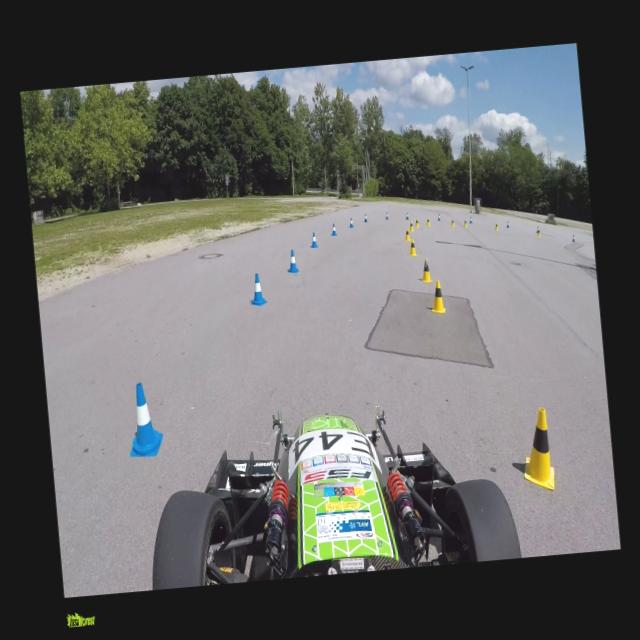blue_cone: (125, 382, 164, 458), (249, 274, 265, 304), (285, 250, 298, 272), (309, 230, 318, 248), (329, 222, 337, 236), (348, 217, 354, 228), (363, 212, 368, 222), (404, 212, 410, 220), (504, 220, 510, 228), (384, 211, 389, 220), (468, 216, 473, 223), (436, 214, 440, 222), (571, 234, 575, 242)
yellow_cone: (519, 408, 557, 490), (428, 279, 446, 315), (418, 256, 432, 284), (406, 236, 418, 257), (402, 227, 411, 241), (407, 220, 414, 232), (534, 225, 540, 238), (425, 216, 431, 226), (493, 222, 499, 231), (462, 218, 467, 228), (450, 217, 455, 227), (414, 218, 419, 228)
